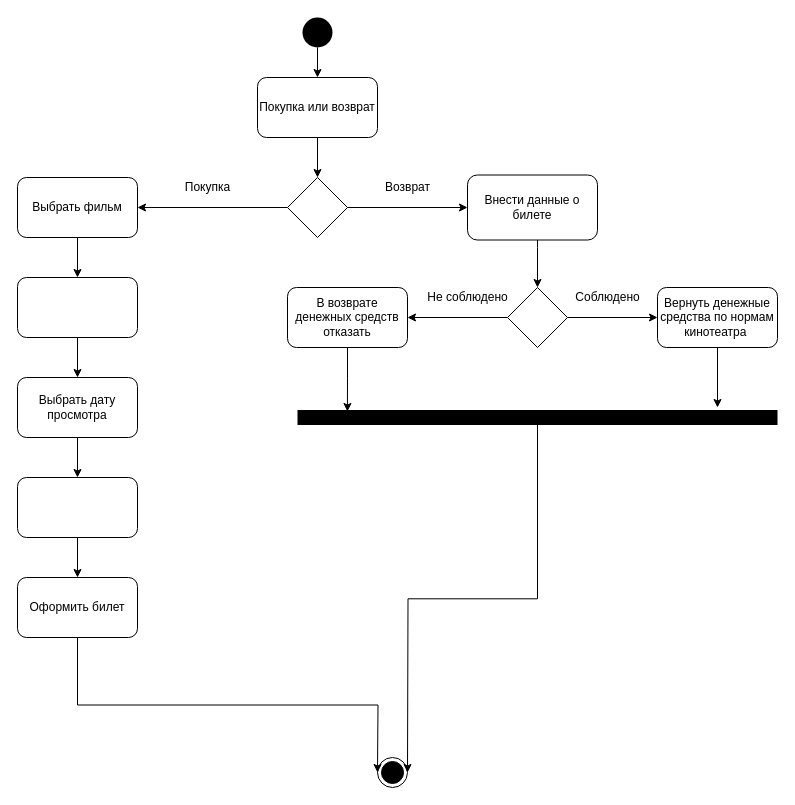
Some shapes in this 795 by 805 pixel diagram are drawn without their labels. The shapes that lost their labels are listed below. From the top down, each one's box as (x1, y1, x2, y2) in pixels, then its label:
(16, 276, 138, 338): Выбрать сеанс
(16, 476, 138, 538): Выбрать место
